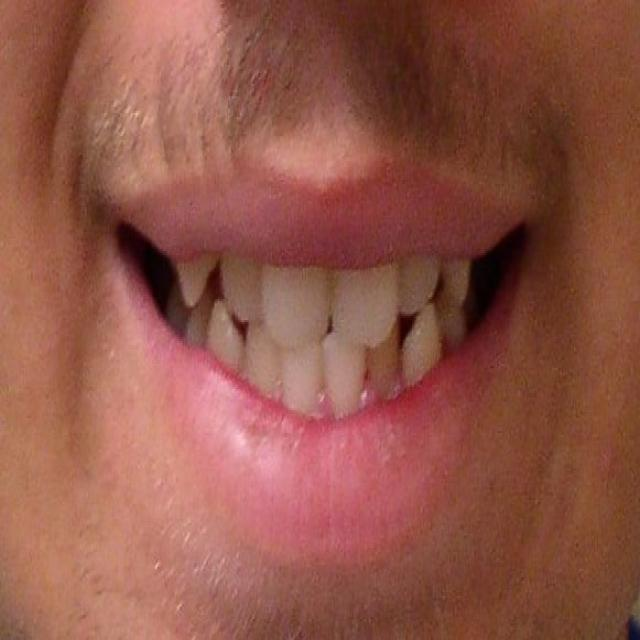tooth: (279, 339, 337, 420), (333, 266, 394, 341), (261, 270, 332, 334), (401, 314, 446, 391), (222, 255, 266, 326), (325, 339, 367, 410), (243, 330, 280, 406), (206, 301, 243, 377), (168, 301, 210, 354), (177, 258, 220, 308), (393, 257, 433, 310), (367, 345, 405, 400), (435, 303, 475, 345), (443, 268, 476, 314)
